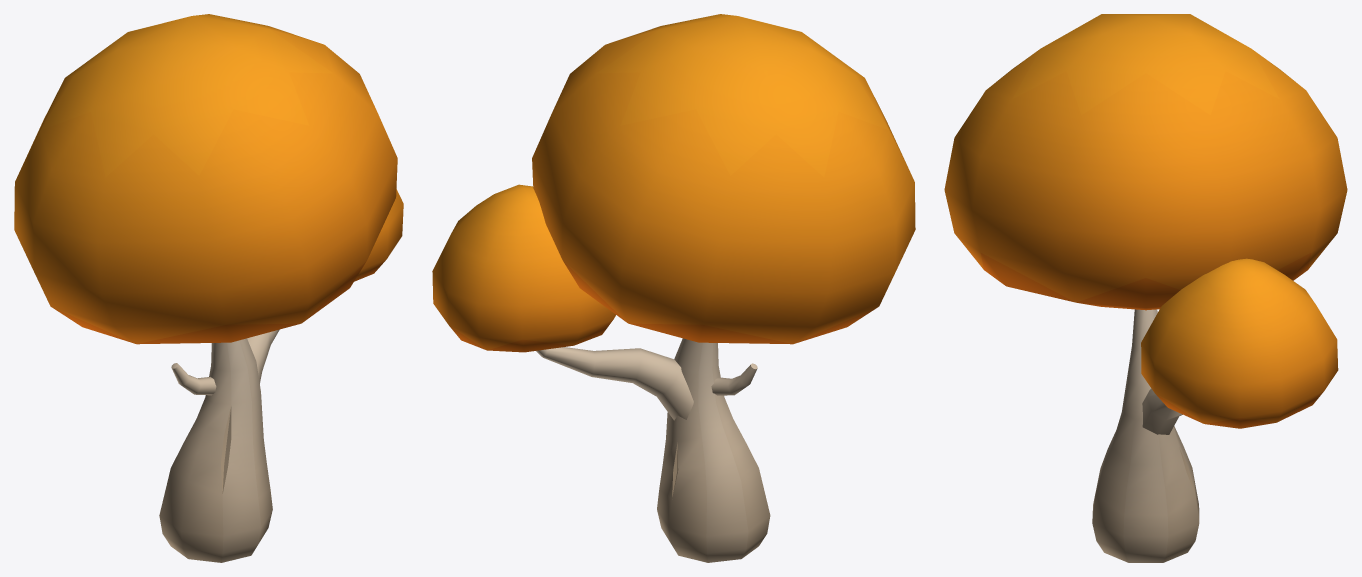
The model's file is Tree_1_B_Color6.fbx.
3 views of the same model, side by side, from view 1: azimuth 30°, elevation 25°; view 2: azimuth 150°, elevation 25°; view 3: azimuth 270°, elevation 25° (orthographic).
Visible parts, largest first — view 1: Tree_1_B_Color6; view 2: Tree_1_B_Color6; view 3: Tree_1_B_Color6.
Part boxes in pixels (box(x1,y1,x2,y2)): Tree_1_B_Color6: box(14, 14, 403, 562); Tree_1_B_Color6: box(432, 14, 915, 562); Tree_1_B_Color6: box(944, 14, 1347, 562).
Size of the model in its own units: 4.01 by 4.93 by 3.45.
